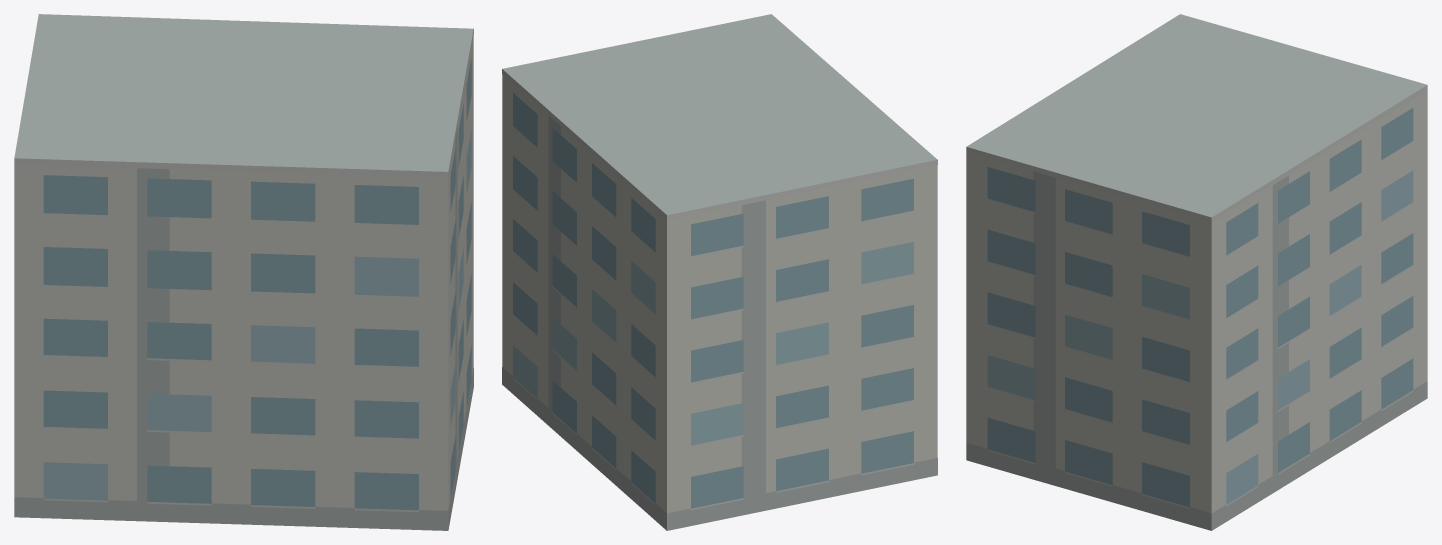
Rendered from survey-upis-32755233.glb.
The picture shows the model from 3 angles, left to right: view 1: azimuth 30°, elevation 25°; view 2: azimuth 150°, elevation 25°; view 3: azimuth 270°, elevation 25°; orthographic projection. The views are drawn at different scales.
Visible parts, largest first — view 1: survey-upis-32755233.tmp; view 2: survey-upis-32755233.tmp; view 3: survey-upis-32755233.tmp.
Part boxes in pixels (left/top/right/bottom): survey-upis-32755233.tmp: left=14, top=14, right=473, bottom=530; survey-upis-32755233.tmp: left=502, top=14, right=937, bottom=530; survey-upis-32755233.tmp: left=966, top=14, right=1427, bottom=530.
Bounding box in the file's own units: 20.19 × 14.5 × 19.35.
